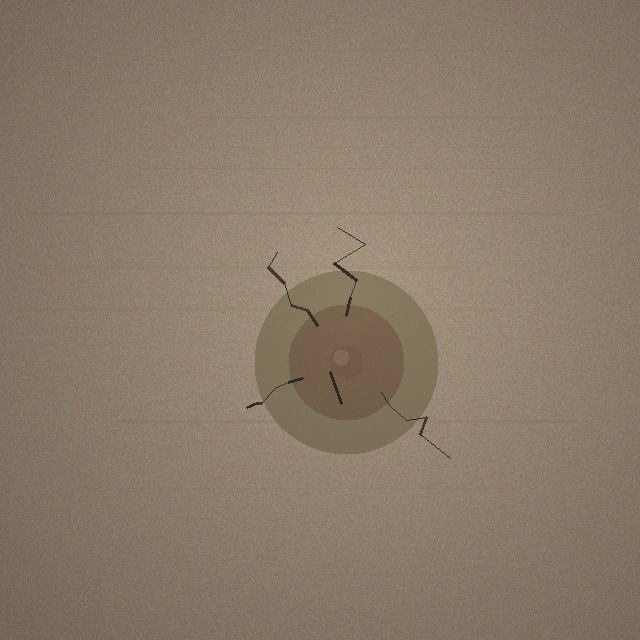crack: (254, 270, 438, 454)
